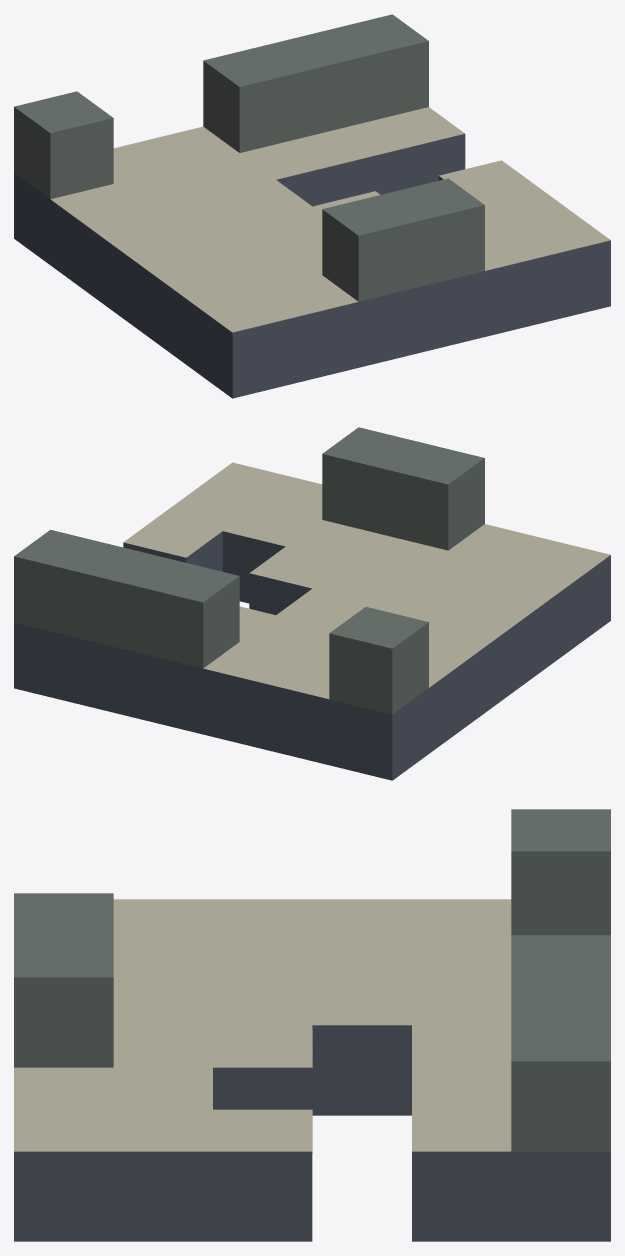
The picture shows the model from 3 angles, top to bottom: view 1: azimuth 30°, elevation 25°; view 2: azimuth 150°, elevation 25°; view 3: azimuth 270°, elevation 25°; orthographic projection. The views are drawn at different scales.
Parts seen in each view (by area): view 1: 2.1; view 2: 2.1; view 3: 2.1.
Boxes of the visible parts, x1,y1,x2,y2 form: 2.1: [14, 14, 610, 398]; 2.1: [14, 427, 610, 780]; 2.1: [14, 809, 610, 1241].
Size of the model in its own units: 600 by 200 by 600.
